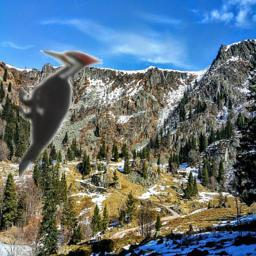Woodpecker: (19, 50, 103, 180)
